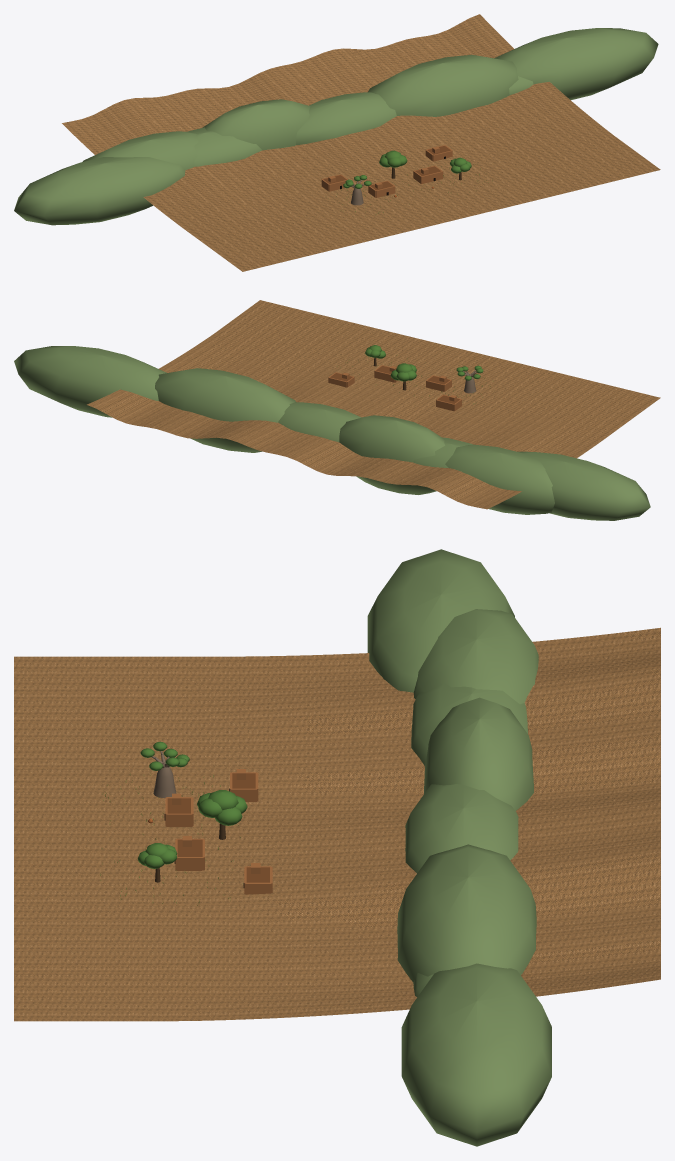
Rendered from village-lobi.glb.
The picture shows the model from 3 angles, top to bottom: view 1: azimuth 30°, elevation 25°; view 2: azimuth 150°, elevation 25°; view 3: azimuth 270°, elevation 25°; orthographic projection. The views are drawn at different scales.
Parts seen in each view (by area): view 1: sol, decor; view 2: sol, decor; view 3: sol, decor.
Part boxes in pixels (<box>): sol: <box>62,14,660,271</box>; decor: <box>14,28,658,225</box>; sol: <box>87,300,660,509</box>; decor: <box>14,345,650,520</box>; sol: <box>14,627,660,1021</box>; decor: <box>100,549,551,1146</box>.
Bounding box in the file's own units: 188 × 19.8 × 90.
Materials: 10 (1 with a texture image).
